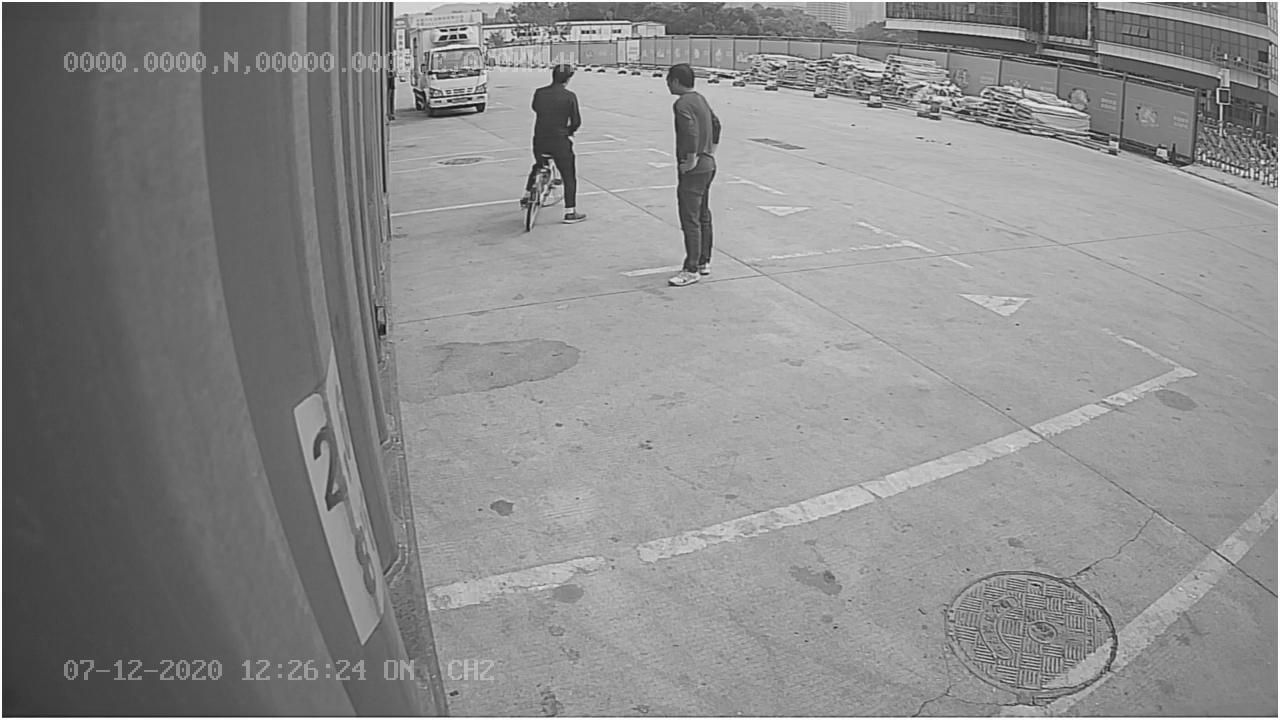person: (662, 60, 725, 288)
